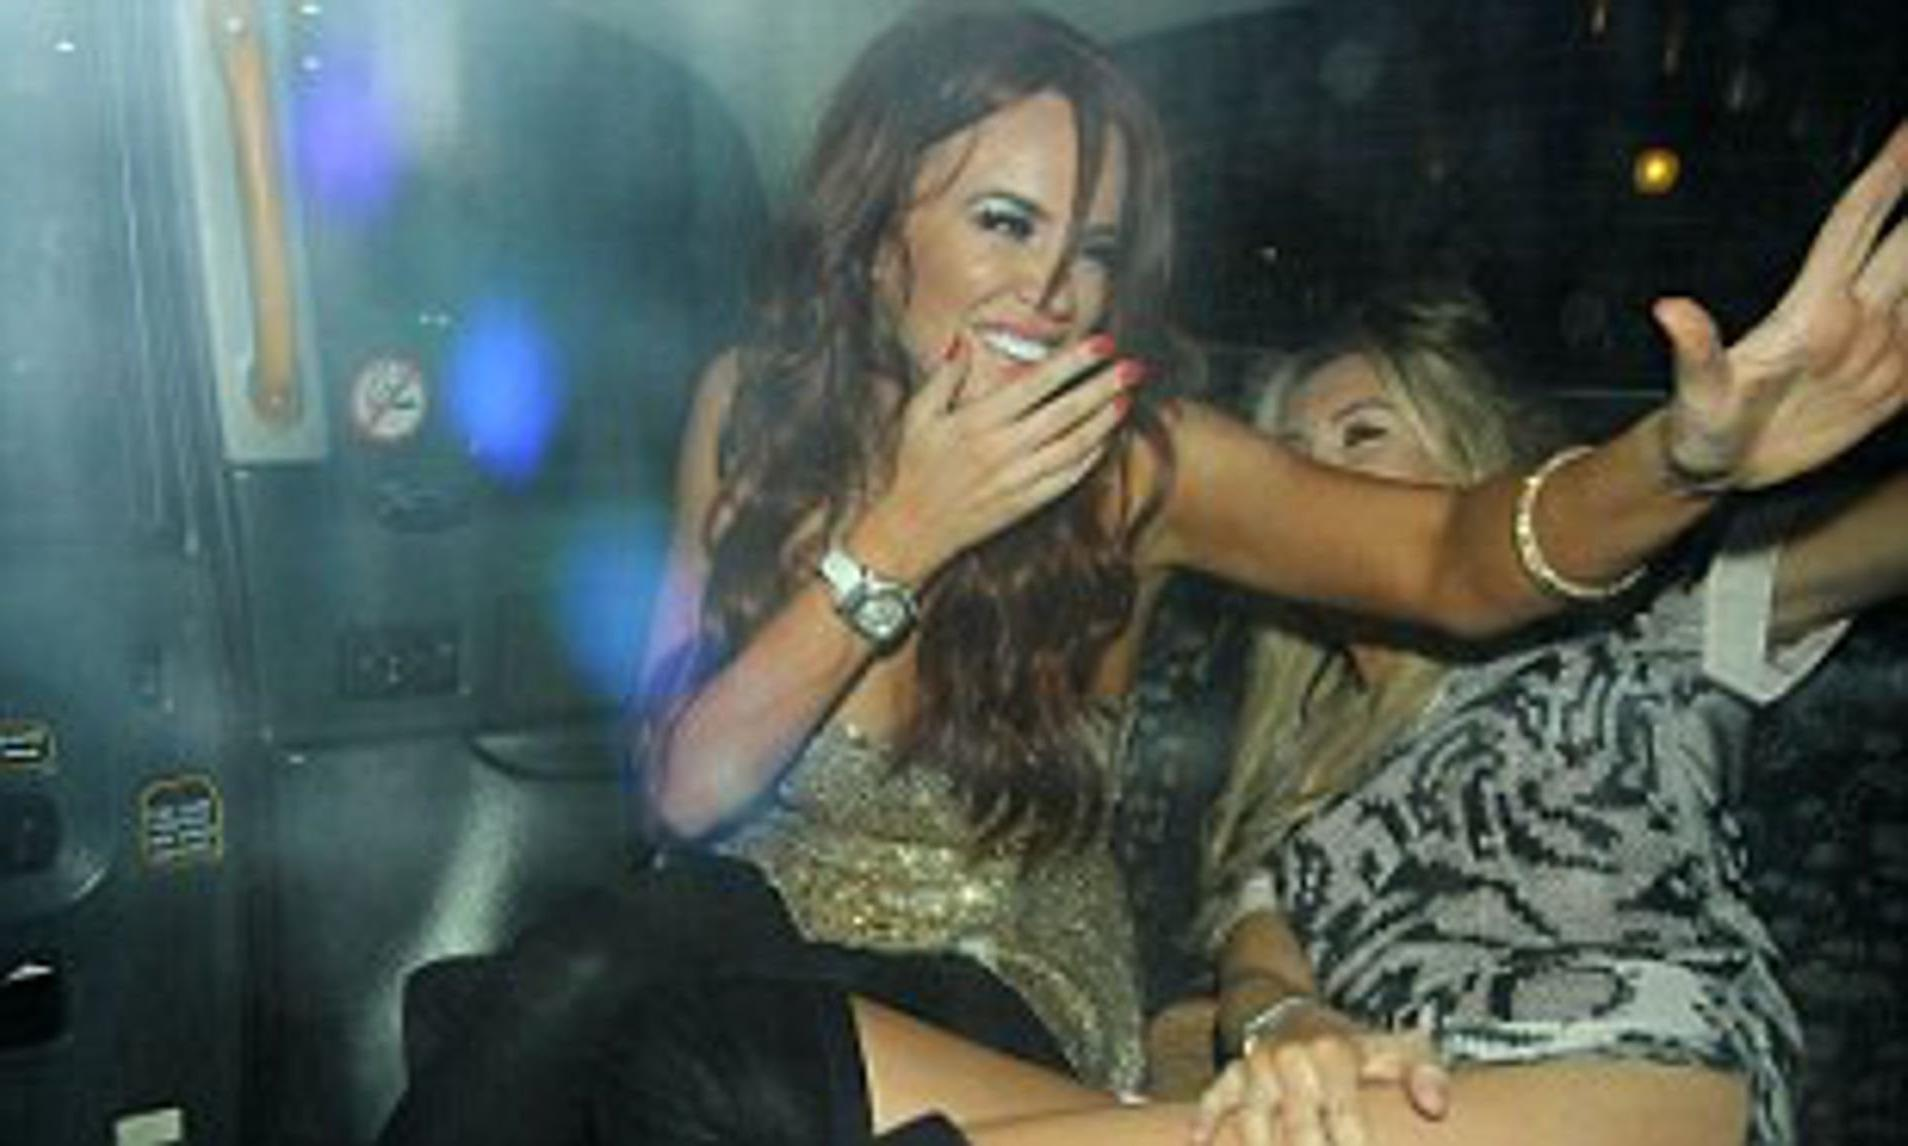Drunk: (919, 108, 1127, 412)
